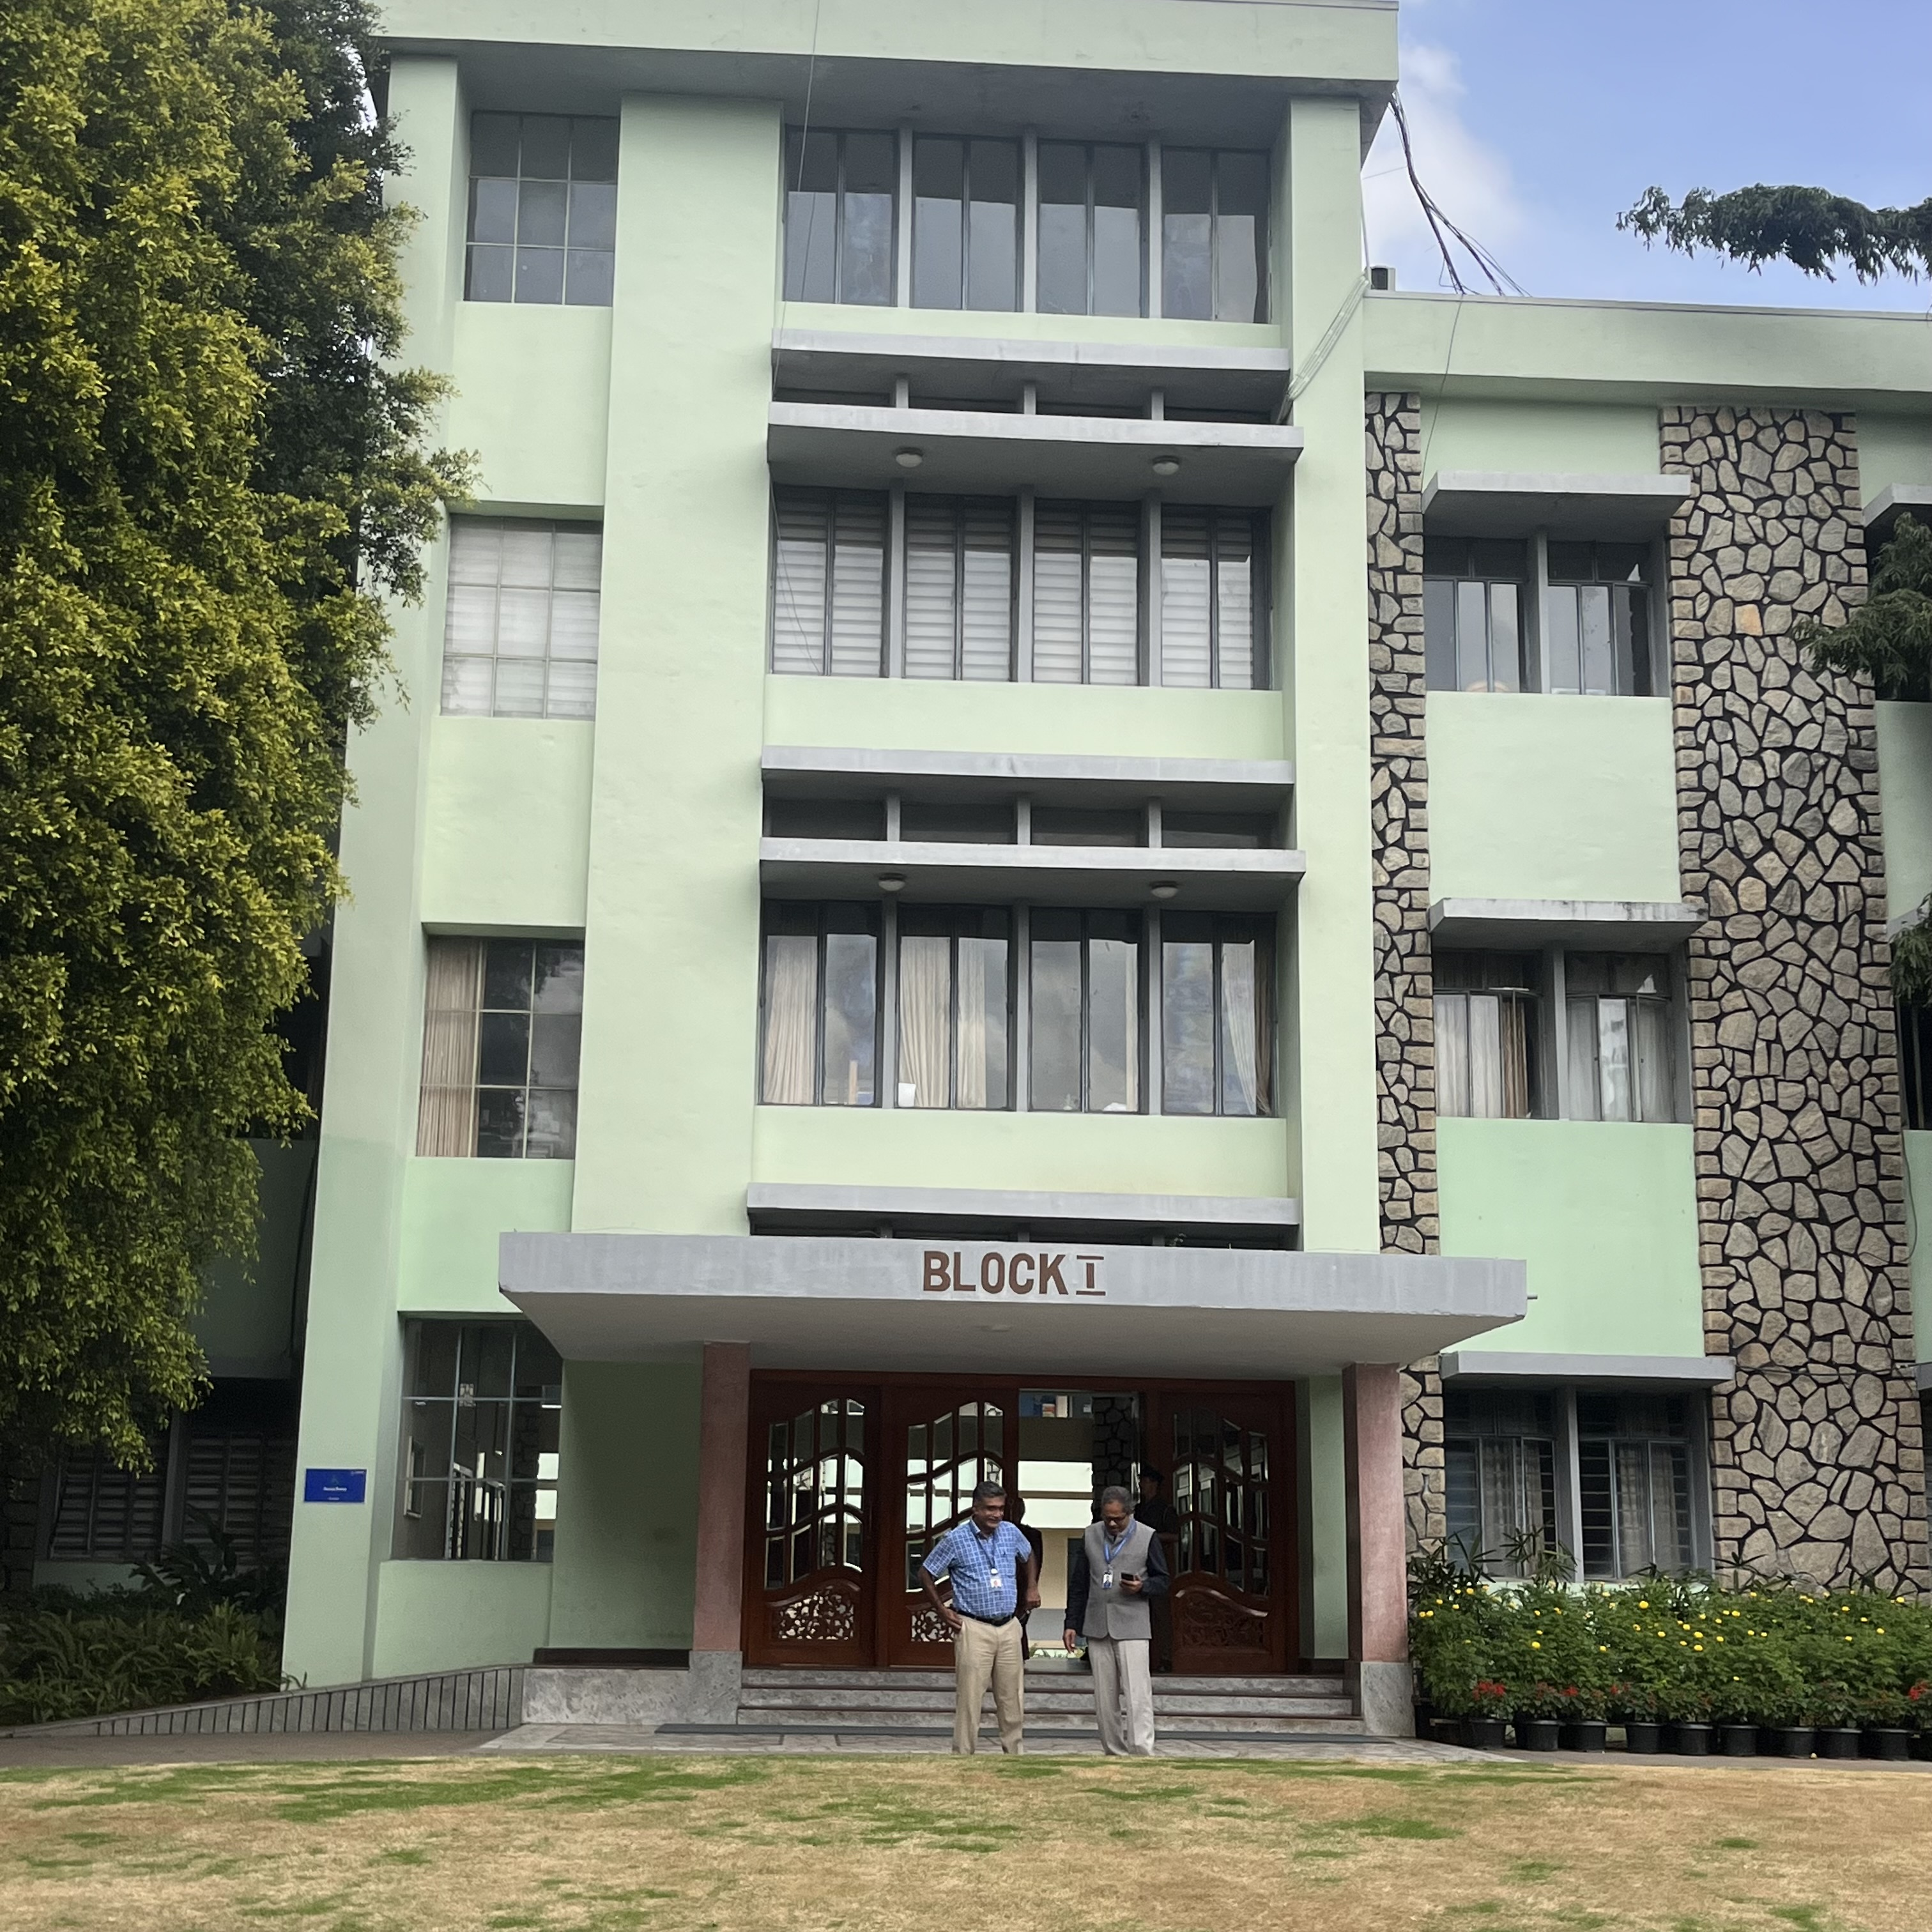Block 1: (377, 14, 1932, 1640)
